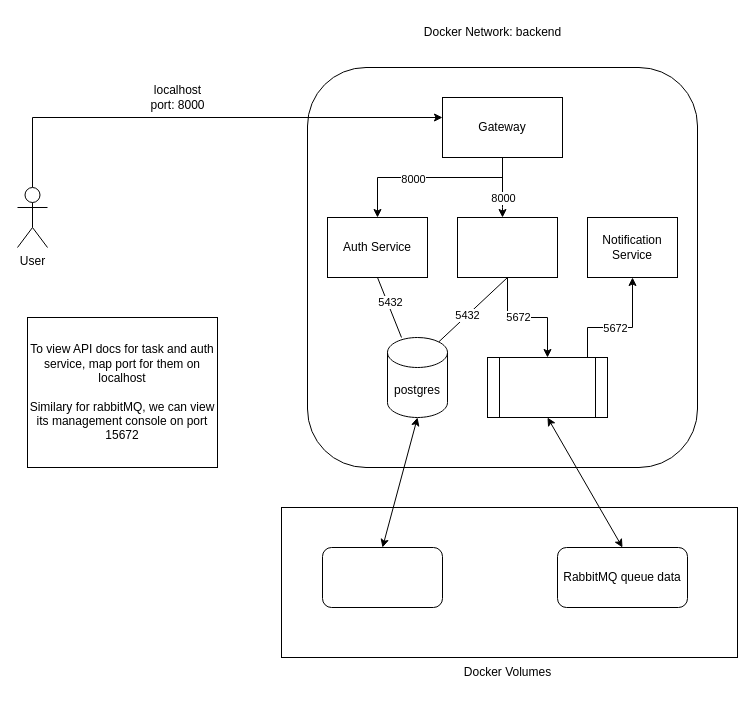
Some shapes in this 755 by 704 pixel diagram are drawn without their labels. Here are the shapes that lost their labels. From the top down, the centre of each, then its label:
At point 507,247: "Task Service".
At point 547,387: "rabbitmq".
At point 382,577: "Postgres data".
